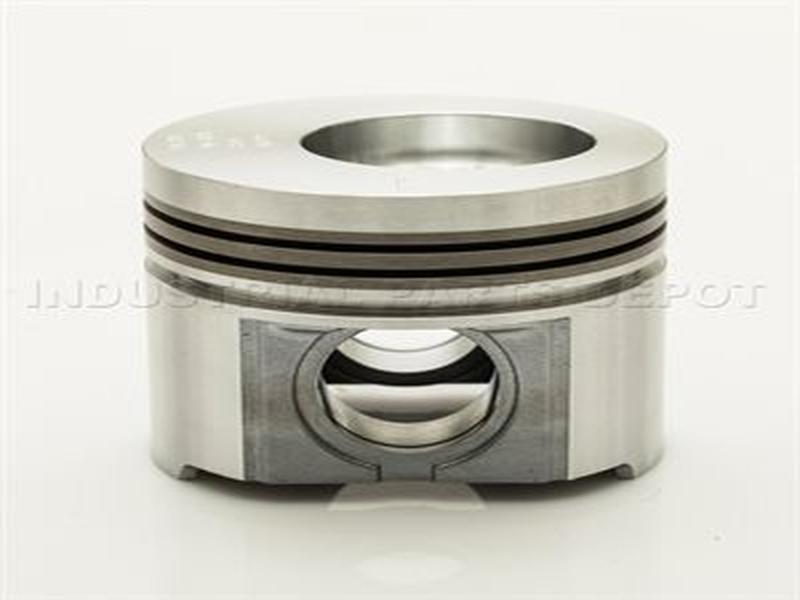piston: (122, 72, 694, 552)
